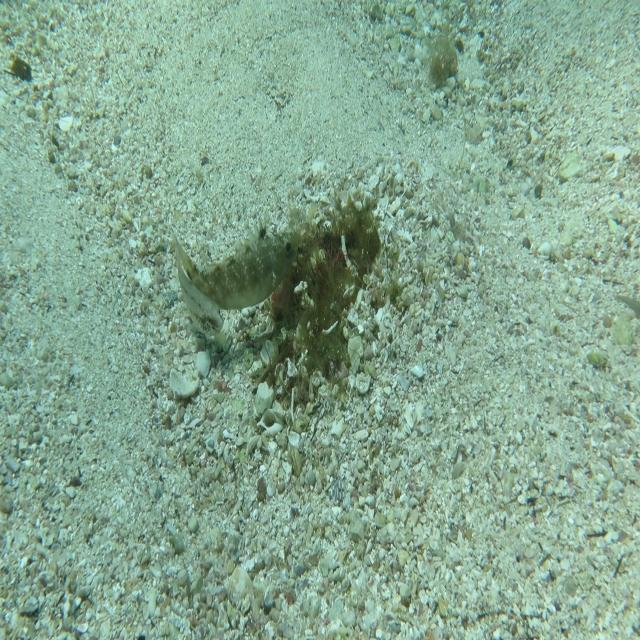FAN: (169, 217, 302, 317)
core_nest: (321, 225, 375, 267)
female: (174, 244, 224, 337)
nest: (260, 178, 400, 416)
